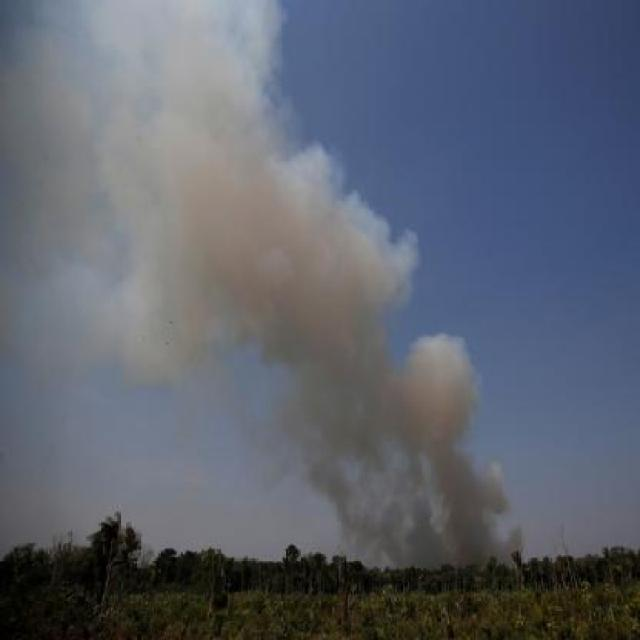Smoke: (0, 0, 527, 562)
